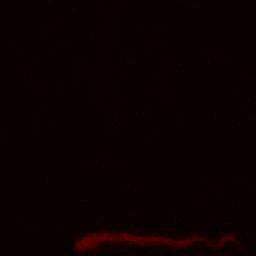debris: (199, 229, 237, 247), (72, 235, 111, 251), (160, 232, 201, 247), (116, 233, 161, 243), (98, 227, 124, 236)
